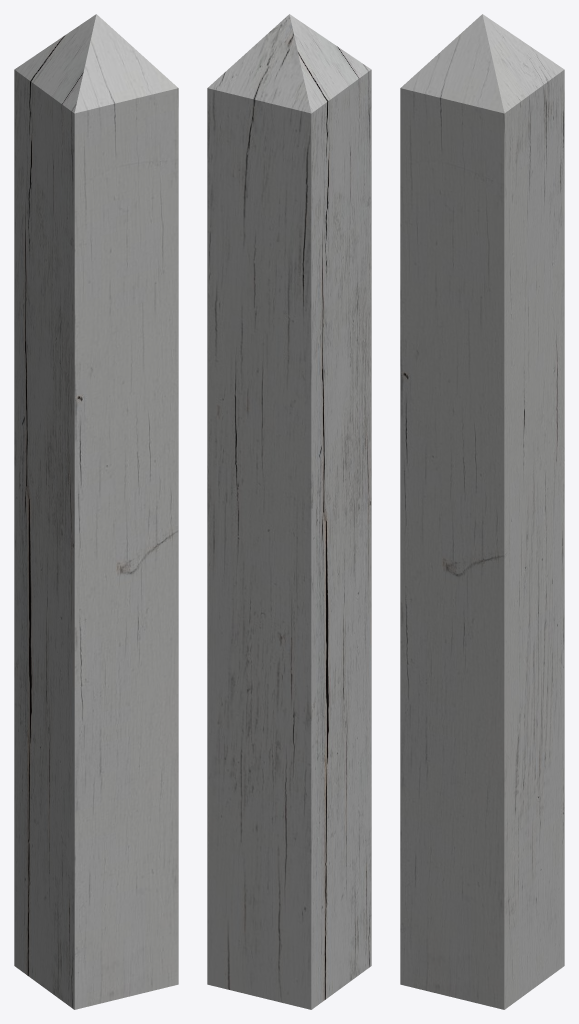
The model's file is picket_post.glb.
The picture shows the model from 3 angles, left to right: view 1: azimuth 30°, elevation 25°; view 2: azimuth 150°, elevation 25°; view 3: azimuth 330°, elevation 25°; orthographic projection.
Parts seen in each view (by area): view 1: PoleStyle1Low.002; view 2: PoleStyle1Low.002; view 3: PoleStyle1Low.002.
Part boxes in pixels (x1=…): PoleStyle1Low.002: x1=14, y1=14, x2=178, y2=1009; PoleStyle1Low.002: x1=207, y1=14, x2=371, y2=1009; PoleStyle1Low.002: x1=400, y1=14, x2=564, y2=1009.
Size of the model in its own units: 0.1132 by 0.9994 by 0.1132.
1 material, 1 textured.
